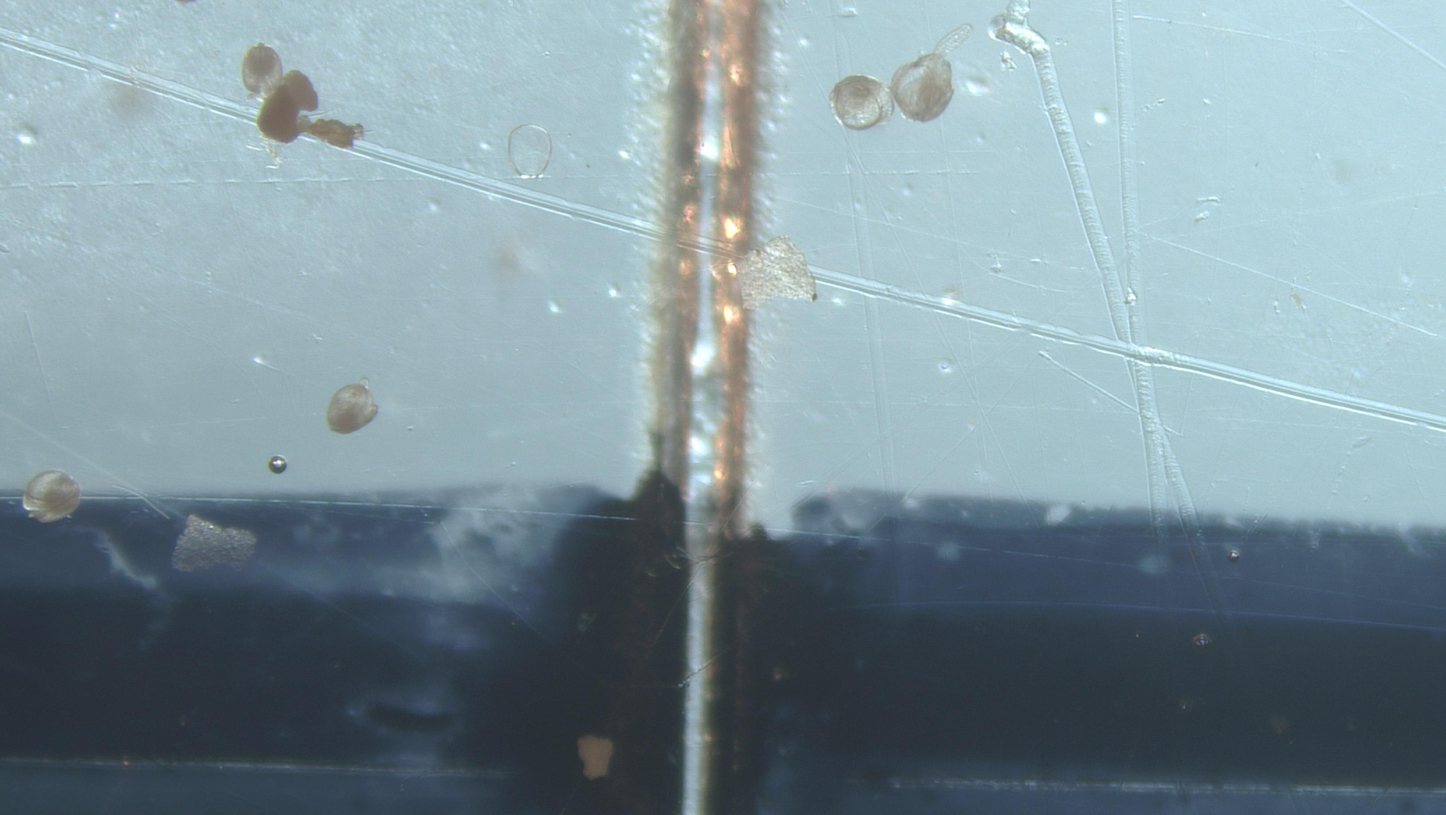dead: (507, 124, 553, 179)
live: (890, 51, 954, 123), (829, 75, 892, 130), (22, 471, 81, 523), (326, 379, 379, 435)
